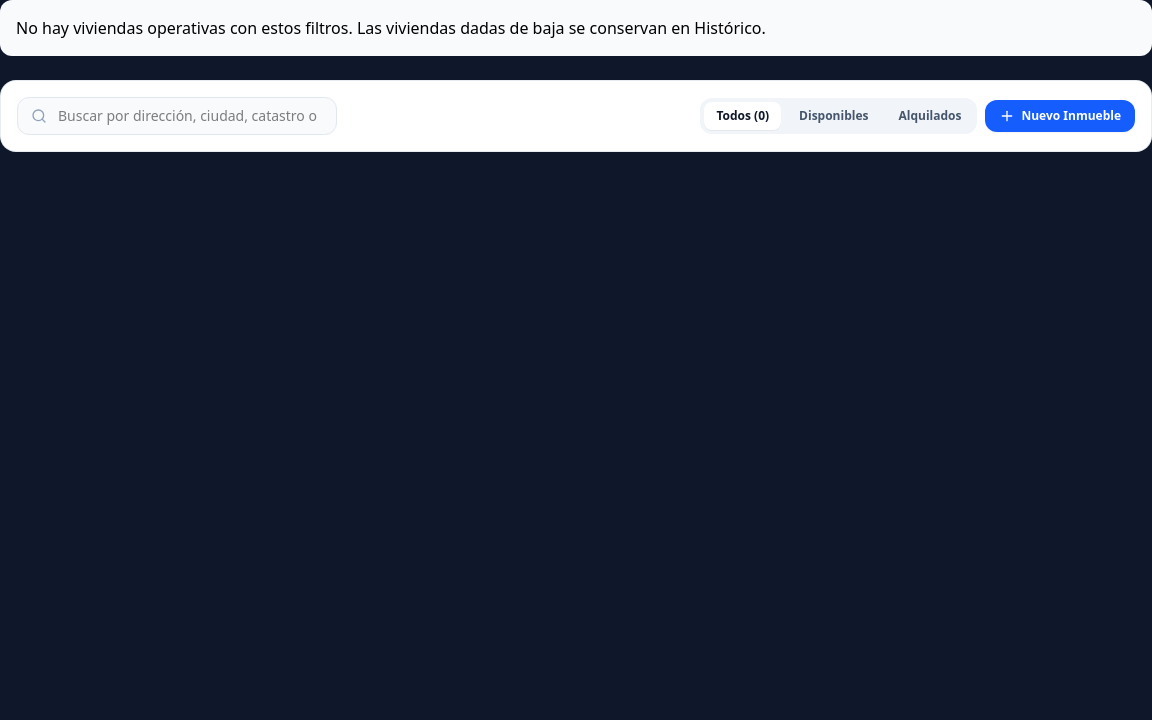
it: D · seleccionar un titular EXISTENTE en el alta › muestra el aviso claro cuando el titular no existe, sin abrir ningún subproceso de creación
This screenshot has width=1152, height=720.
Click the button "Nuevo Inmueble" at [1060, 116], box [986,100,1135,132]
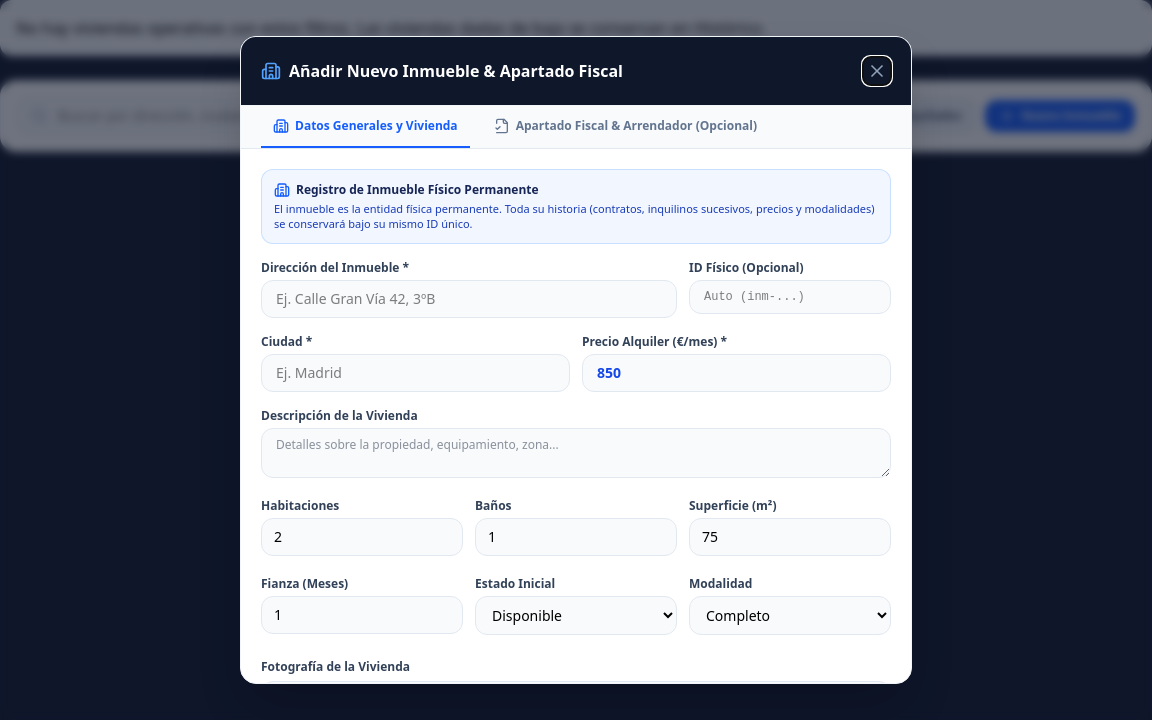
Click the button "Apartado Fiscal & Arrendador (Opcional)" at [625, 133], box [482,118,769,148]
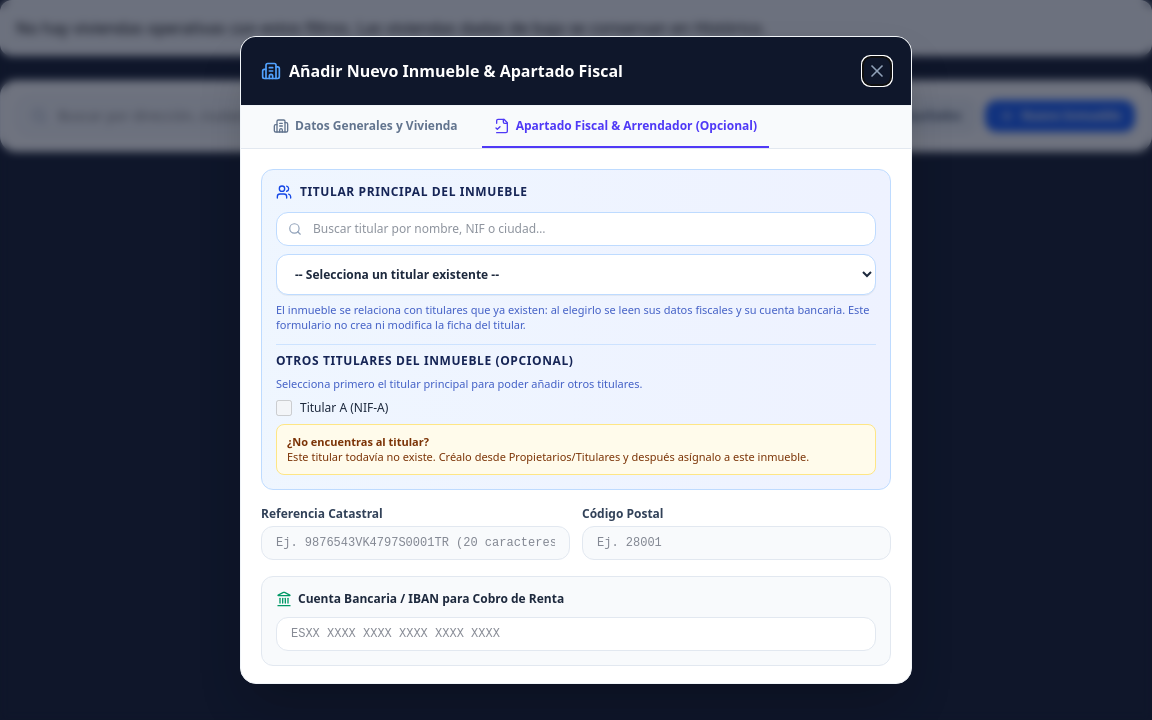
Check: the text with test id "aviso-titular-inexistente" shows "Este titular todavía no existe. Créalo desde Propietarios/Titulares y después asígnalo a este inmueble.", box [287,449,809,464]
